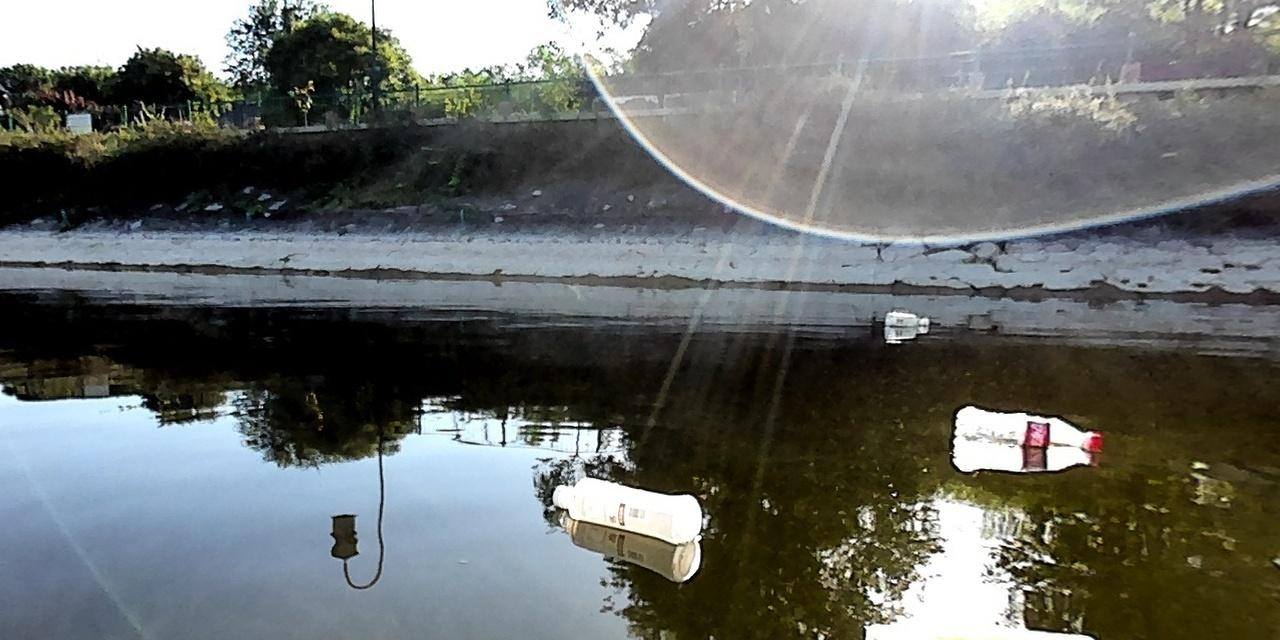bottle: (546, 471, 702, 548), (953, 400, 1103, 456), (881, 306, 930, 328)
